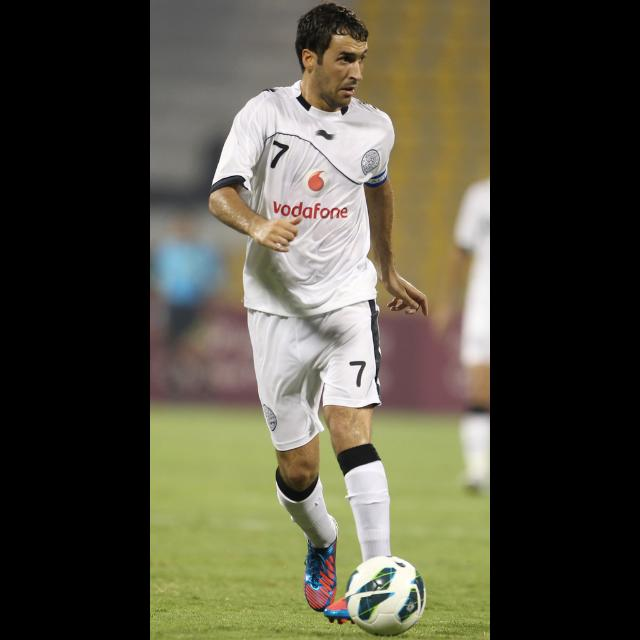Football: (344, 554, 426, 634)
